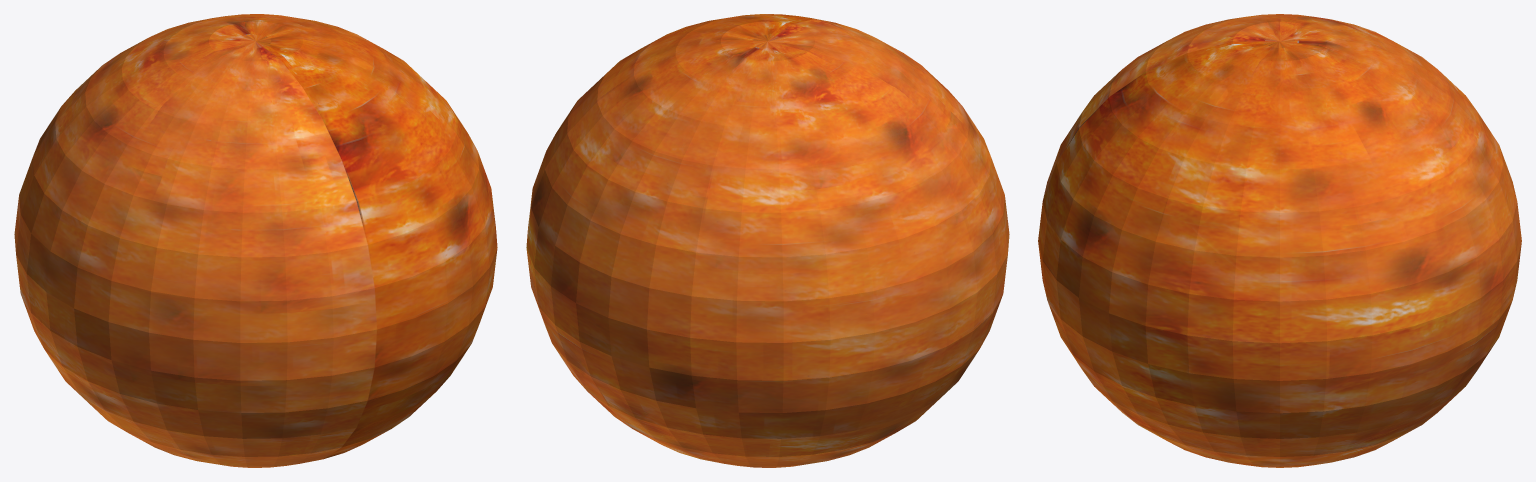
File: moon.obj
The picture shows the model from 3 angles, left to right: view 1: azimuth 30°, elevation 25°; view 2: azimuth 150°, elevation 25°; view 3: azimuth 270°, elevation 25°; orthographic projection.
Parts seen in each view (by area): view 1: Sphere_Sphere.001; view 2: Sphere_Sphere.001; view 3: Sphere_Sphere.001.
Part boxes in pixels (x1=…): Sphere_Sphere.001: x1=14, y1=14, x2=497, y2=467; Sphere_Sphere.001: x1=526, y1=14, x2=1009, y2=467; Sphere_Sphere.001: x1=1038, y1=14, x2=1521, y2=467.
Size of the model in its own units: 2 by 1.82 by 2.
Materials: 1 (1 with a texture image).
